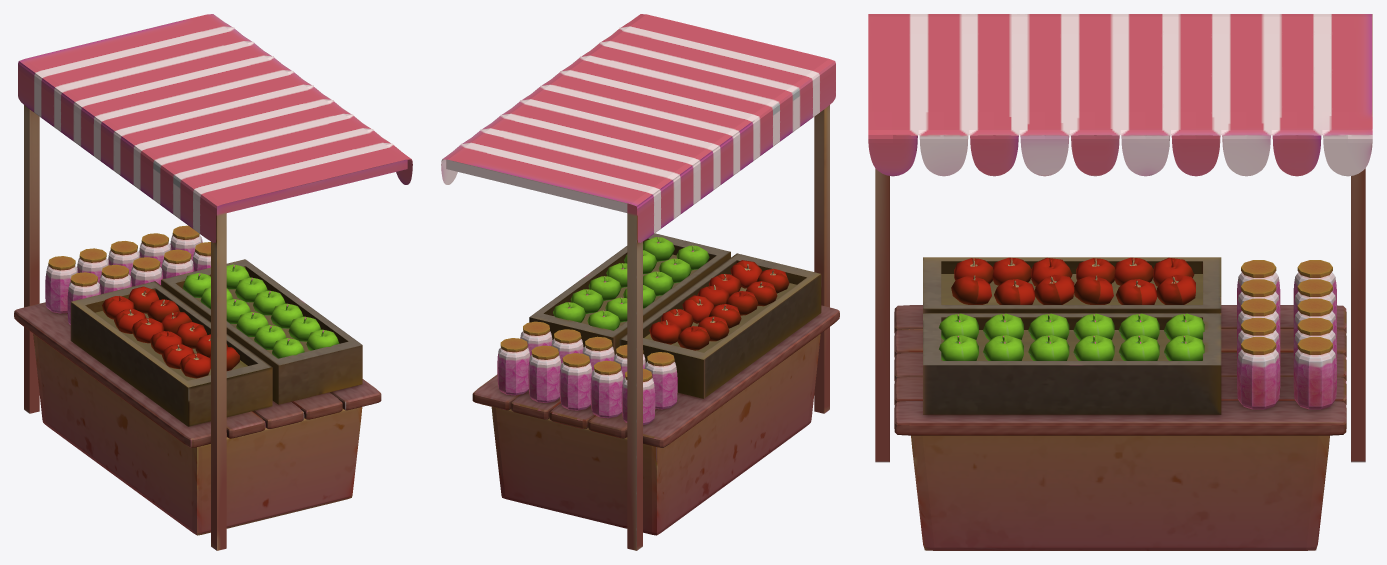
Rendered from Stall2pink.fbx.
The picture shows the model from 3 angles, left to right: view 1: azimuth 30°, elevation 25°; view 2: azimuth 150°, elevation 25°; view 3: azimuth 270°, elevation 25°; orthographic projection. The views are drawn at different scales.
Visible parts, largest first — view 1: Plane, Cube, Cube.008, Cube.010, Cube.007, Cylinder.002, Cube.011, Sphere.003, Sphere.002, Sphere.004, Plane.007; view 2: Plane, Cube, Cylinder.002, Cube.008, Cube.010, Cube.007, Sphere.003, Cube.011, Sphere.002, Sphere.004, Plane.007; view 3: Plane, Cube, Cube.011, Cube.007, Cylinder.002, Sphere.003, Cube.008, Cube.010, Sphere.004, Sphere.002, Plane.007, Plane.008.
Boxes of the visible parts, x1=… form: Plane: x1=18, y1=14, x2=412, y2=242; Cube: x1=33, y1=334, x2=362, y2=535; Cube.008: x1=24, y1=105, x2=407, y2=550; Cube.010: x1=70, y1=281, x2=272, y2=426; Cube.007: x1=14, y1=302, x2=381, y2=447; Cylinder.002: x1=45, y1=225, x2=210, y2=324; Cube.011: x1=161, y1=259, x2=362, y2=404; Sphere.003: x1=183, y1=264, x2=339, y2=358; Sphere.002: x1=102, y1=286, x2=191, y2=343; Sphere.004: x1=150, y1=321, x2=239, y2=378; Plane.007: x1=95, y1=311, x2=247, y2=380; Plane: x1=441, y1=14, x2=835, y2=242; Cube: x1=491, y1=334, x2=820, y2=535; Cylinder.002: x1=497, y1=321, x2=677, y2=425; Cube.008: x1=446, y1=105, x2=829, y2=550; Cube.010: x1=619, y1=253, x2=821, y2=398; Cube.007: x1=472, y1=305, x2=839, y2=447; Sphere.003: x1=553, y1=237, x2=709, y2=330; Cube.011: x1=529, y1=233, x2=730, y2=354; Sphere.002: x1=649, y1=295, x2=741, y2=350; Sphere.004: x1=697, y1=260, x2=789, y2=315; Plane.007: x1=644, y1=274, x2=796, y2=352; Plane: x1=868, y1=14, x2=1372, y2=176; Cube: x1=911, y1=435, x2=1329, y2=550; Cube.011: x1=923, y1=313, x2=1221, y2=414; Cube.007: x1=894, y1=305, x2=1346, y2=435; Cylinder.002: x1=1237, y1=260, x2=1336, y2=409; Sphere.003: x1=939, y1=313, x2=1204, y2=360; Cube.008: x1=875, y1=168, x2=1365, y2=462; Cube.010: x1=923, y1=257, x2=1221, y2=312; Sphere.004: x1=951, y1=257, x2=1074, y2=304; Sphere.002: x1=1074, y1=257, x2=1195, y2=304; Plane.007: x1=941, y1=274, x2=1202, y2=304; Plane.008: x1=941, y1=330, x2=1202, y2=360.
Size of the model in its own units: 906 by 1418 by 1467.
